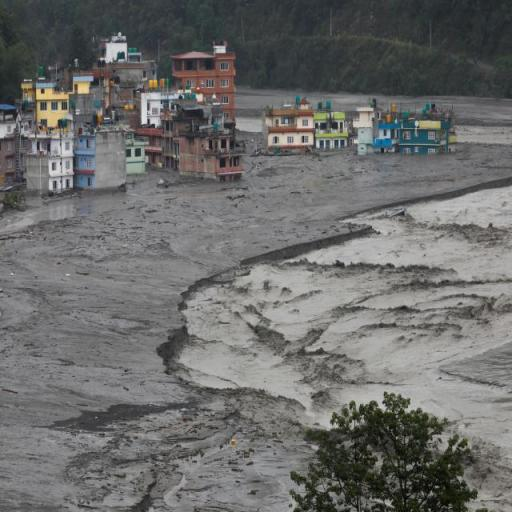flood: (177, 184, 512, 456), (459, 123, 512, 151), (237, 114, 261, 132)
house: (360, 104, 452, 154), (175, 43, 237, 105), (187, 120, 241, 180), (24, 74, 75, 135), (28, 127, 73, 194), (262, 104, 315, 146), (79, 123, 102, 192), (136, 89, 170, 126), (316, 113, 350, 149), (115, 59, 156, 83), (0, 135, 19, 183), (126, 138, 148, 176), (372, 135, 393, 154)
